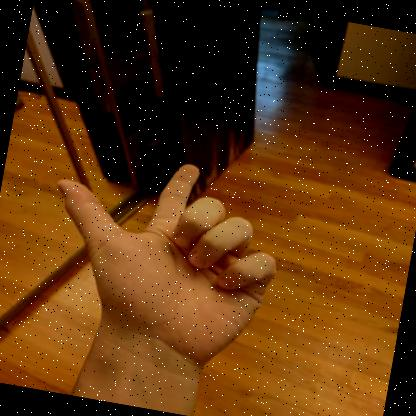L: (56, 163, 276, 363)
